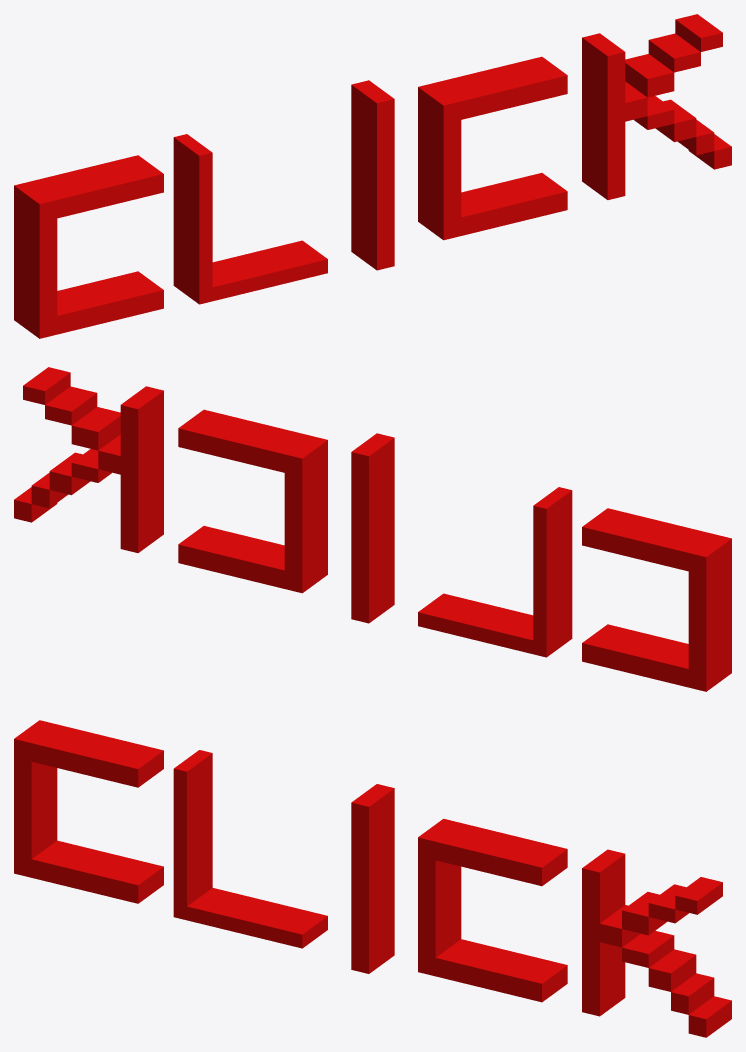
Rendered from click.obj.
3 views of the same model, one above another, from view 1: azimuth 30°, elevation 25°; view 2: azimuth 150°, elevation 25°; view 3: azimuth 330°, elevation 25° (orthographic).
Size of the model in its own units: 15.6 by 3.6 by 1.
Materials: 1 (1 with a texture image).
